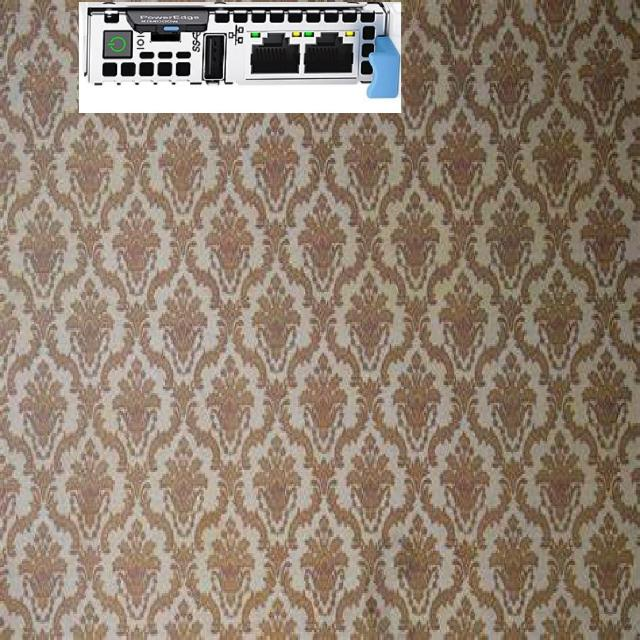Server: (78, 2, 400, 112)
